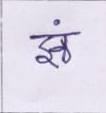anusvara: (54, 20, 60, 25)
